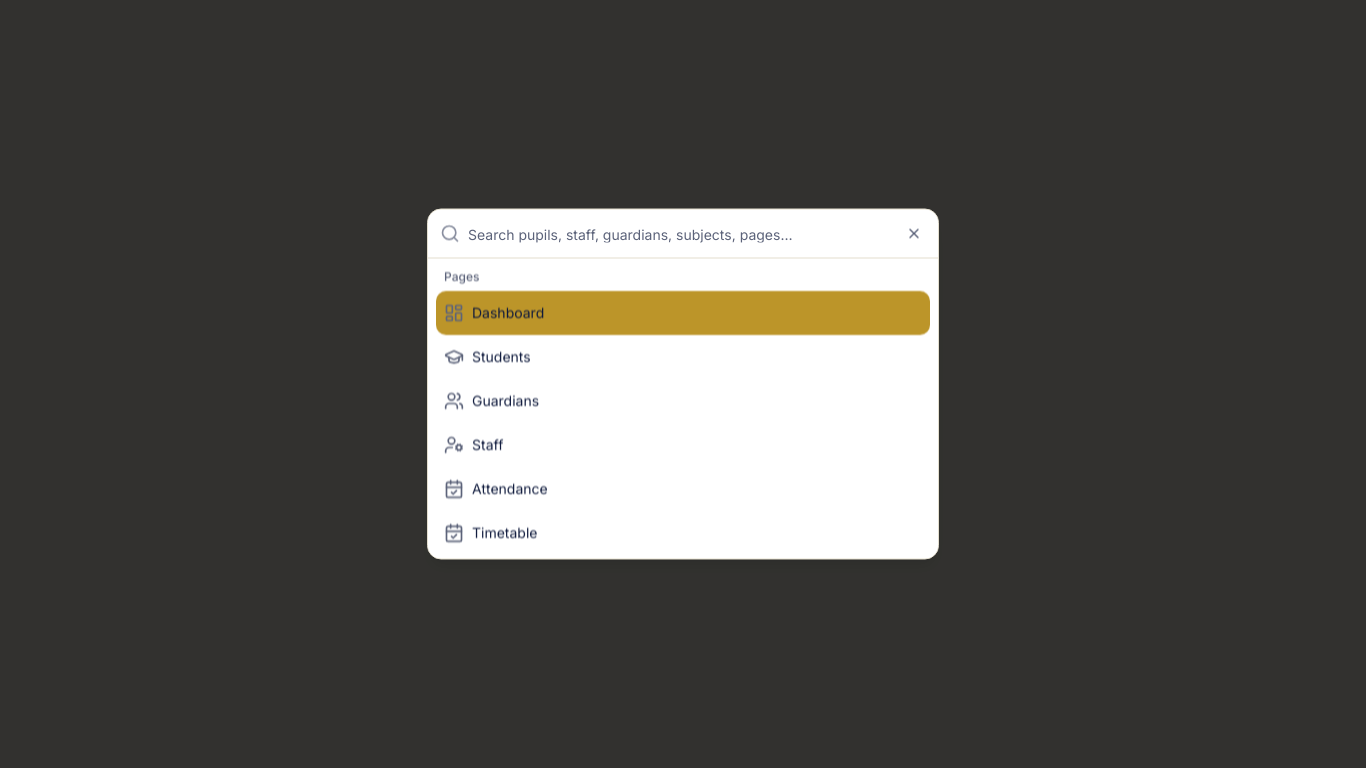
Test: CommandPalette › finds records by name, not just pages
In the dropdown with placeholder "Search pupils, staff, guardians, subjects, pages…": point(697, 234) [468,210,926,258], type "ada"
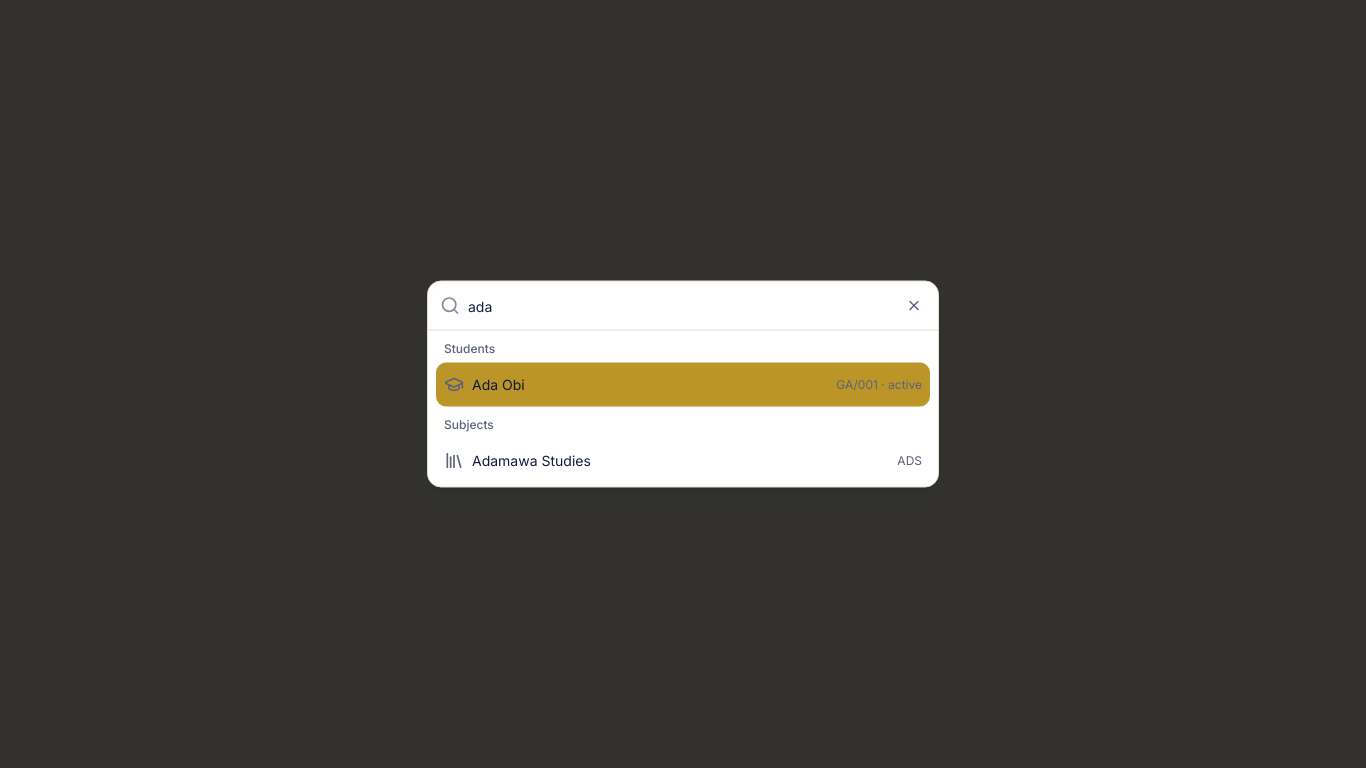
Result: the text "Ada Obi" is shown at [472,374,525,394]
Result: the text "GA/001 · active" is shown at [836,376,922,392]
Result: the text "Adamawa Studies" is shown at [472,450,591,470]
